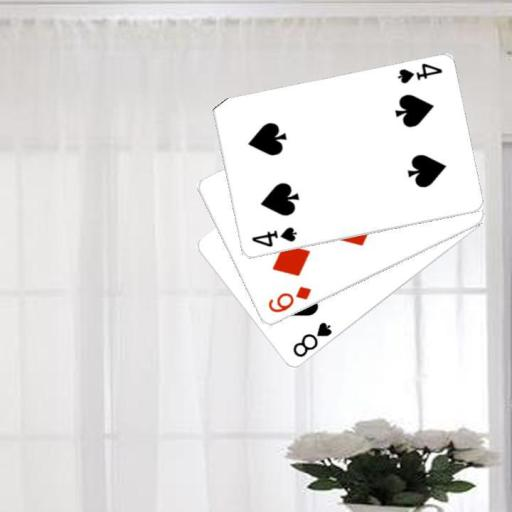4S: (248, 224, 298, 249), (394, 61, 444, 86)
6D: (264, 283, 313, 315)
8S: (290, 319, 334, 360)
